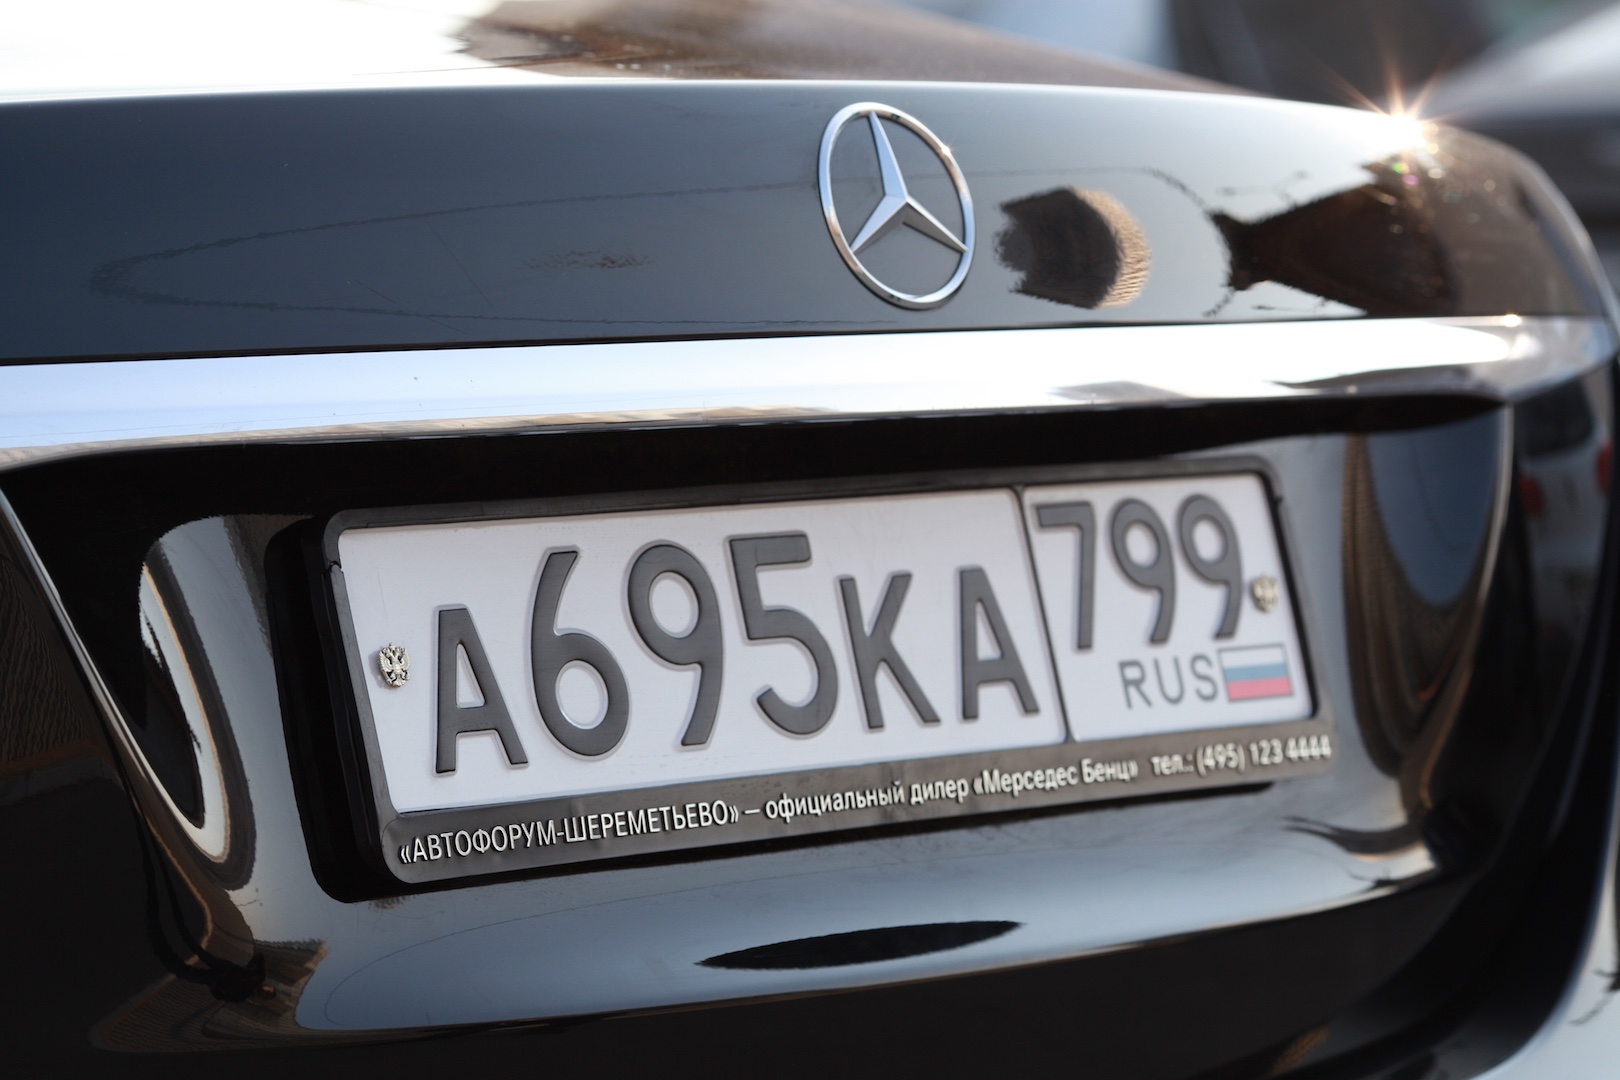number_plate: (359, 455, 1295, 793)
